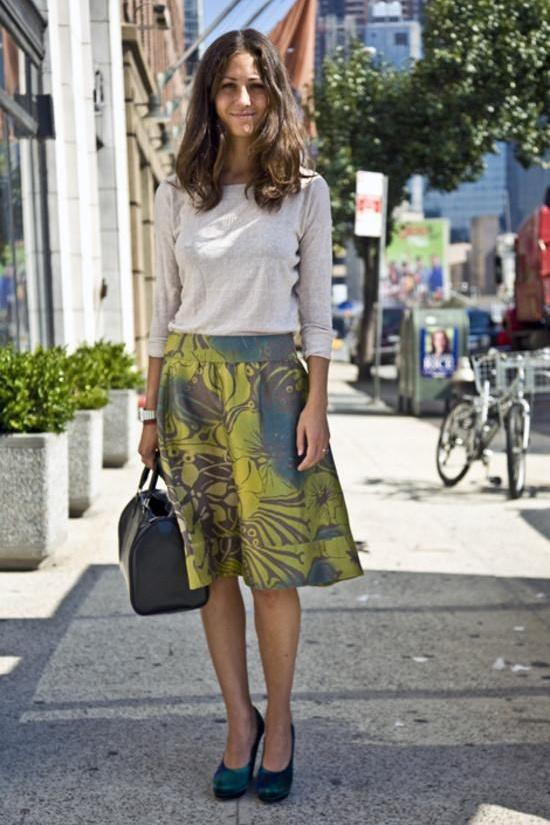Tshirt: (148, 164, 333, 358)
skirt: (158, 330, 364, 588)
